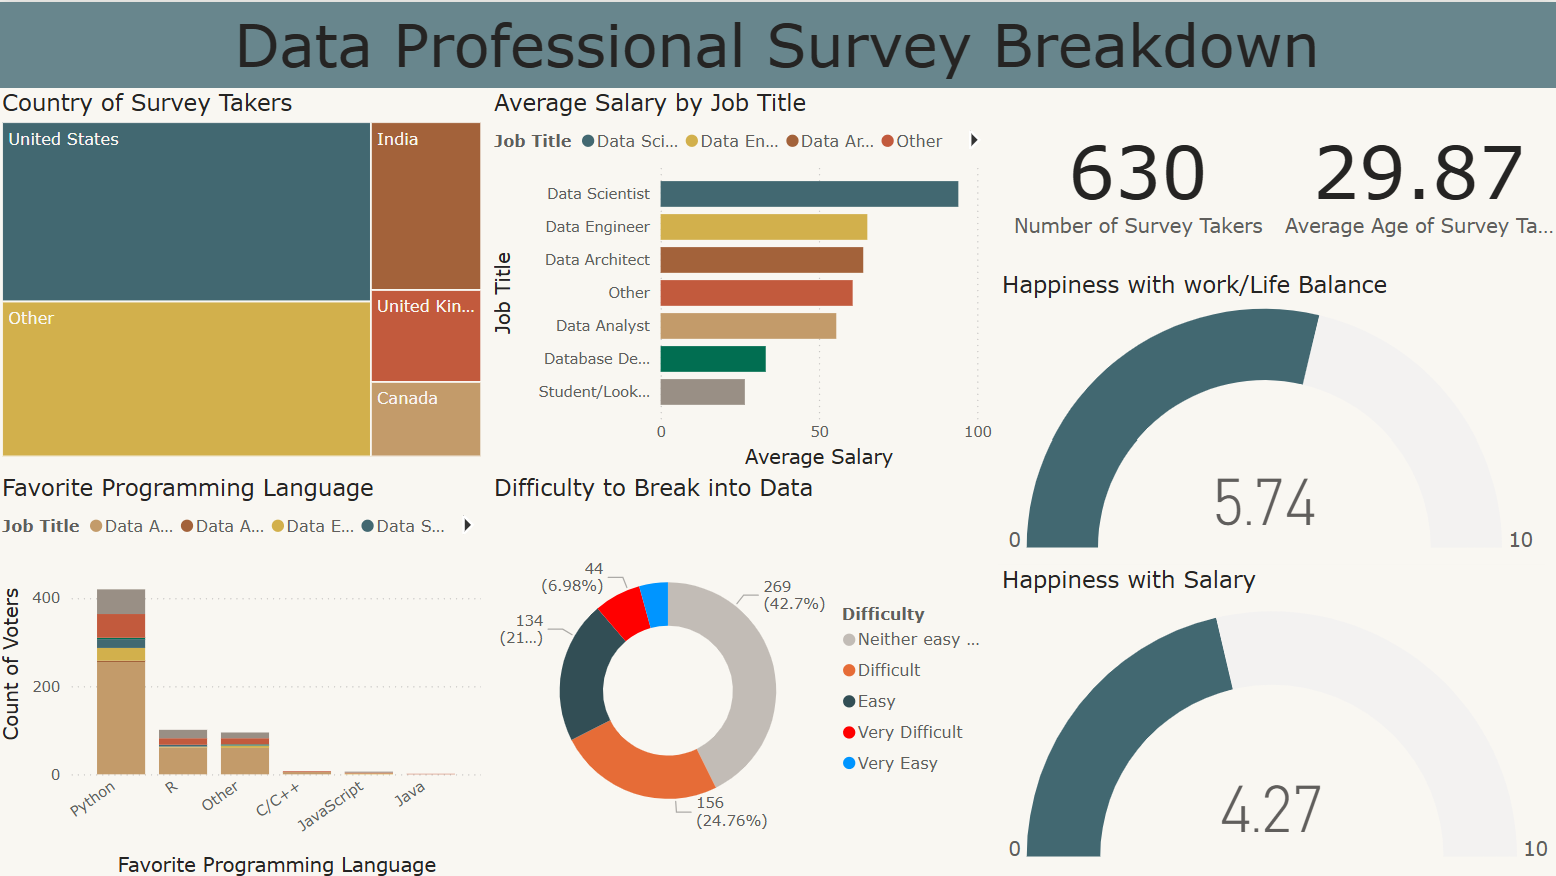

This screenshot's page, from the dashboard's own definition file:
{"tool":"powerbi","page":{"name":"Page 1","canvas":[1280,720],"ordinal":0},"visuals":[{"type":"textbox","box":[0,0,1280,70.4],"z":0},{"type":"card","fields":{"Values":["Count(Data Professional Survey.Unique ID)"]},"box":[820.7,70.4,229.7,150],"z":1000},{"type":"card","fields":{"Values":["Avg(Data Professional Survey.Q10 - Current Age)"]},"box":[1050.3,70.4,231.2,150],"z":2000},{"type":"barChart","title":"Average Salary by Job Title","fields":{"Category":["Data Professional Survey.Q1 - Which Title Best Fits your Current Role?.1"],"Y":["Avg(Data Professional Survey.Average Salary)"],"Series":["Data Professional Survey.Q1 - Which Title Best Fits your Current Role?.1"]},"box":[402.7,70.4,418,315.4],"z":3000},{"type":"columnChart","title":"Favorite Programming Language","fields":{"Category":["Data Professional Survey.Q5 - Favorite Programming Language.1"],"Y":["CountNonNull(Data Professional Survey.Unique ID)"],"Series":["Data Professional Survey.Q1 - Which Title Best Fits your Current Role?.1"]},"box":[0,385.8,402.7,335.3],"z":4000},{"type":"treemap","title":"Country of Survey Takers","fields":{"Group":["Data Professional Survey.Q11 - Which Country do you live in?.1"],"Values":["CountNonNull(Data Professional Survey.Q11 - Which Country do you live in?.1)"]},"box":[0,70.4,402.7,306.2],"z":5000},{"type":"gauge","title":"Happiness with work/Life Balance","fields":{"Y":["Avg(Data Professional Survey.Q6 - How Happy are you in your Current Position with the following? (Work/Life Balance))"],"MinValue":["Min(Data Professional Survey.Q6 - How Happy are you in your Current Position with the following? (Work/Life Balance))1"],"MaxValue":["Max(Data Professional Survey.Q6 - How Happy are you in your Current Position with the following? (Work/Life Balance))2"]},"box":[819.1,220.5,450.1,240.4],"z":6000},{"type":"gauge","title":"Happiness with Salary","fields":{"Y":["Avg(Data Professional Survey.Q6 - How Happy are you in your Current Position with the following? (Salary))"],"MinValue":["Min(Data Professional Survey.Q6 - How Happy are you in your Current Position with the following? (Salary))"],"MaxValue":["Max(Data Professional Survey.Q6 - How Happy are you in your Current Position with the following? (Salary))"]},"box":[819.1,460.9,462.4,258.8],"z":7000},{"type":"donutChart","title":"Difficulty to Break into Data","fields":{"Category":["Data Professional Survey.Q7 - How difficult was it for you to break into Data?"],"Y":["CountNonNull(Data Professional Survey.Q7 - How difficult was it for you to break into Data?)"]},"box":[402.7,385.8,418,333.8],"z":8000}]}

Visuals, with their boxes in screenshot pixels (x1, y1, x2, y2), scaled from the page's 1280x720 canvas onto the 1556x876 screenshot:
textbox: region(0, 0, 1555, 86)
card - Count(Data Professional Survey.Unique ID): region(998, 86, 1277, 268)
card - Avg(Data Professional Survey.Q10 - Current Age): region(1277, 86, 1555, 268)
"Average Salary by Job Title" barChart: region(490, 86, 998, 469)
"Favorite Programming Language" columnChart: region(0, 469, 490, 875)
"Country of Survey Takers" treemap: region(0, 86, 490, 458)
"Happiness with work/Life Balance" gauge: region(996, 268, 1543, 561)
"Happiness with Salary" gauge: region(996, 561, 1555, 875)
"Difficulty to Break into Data" donutChart: region(490, 469, 998, 875)
